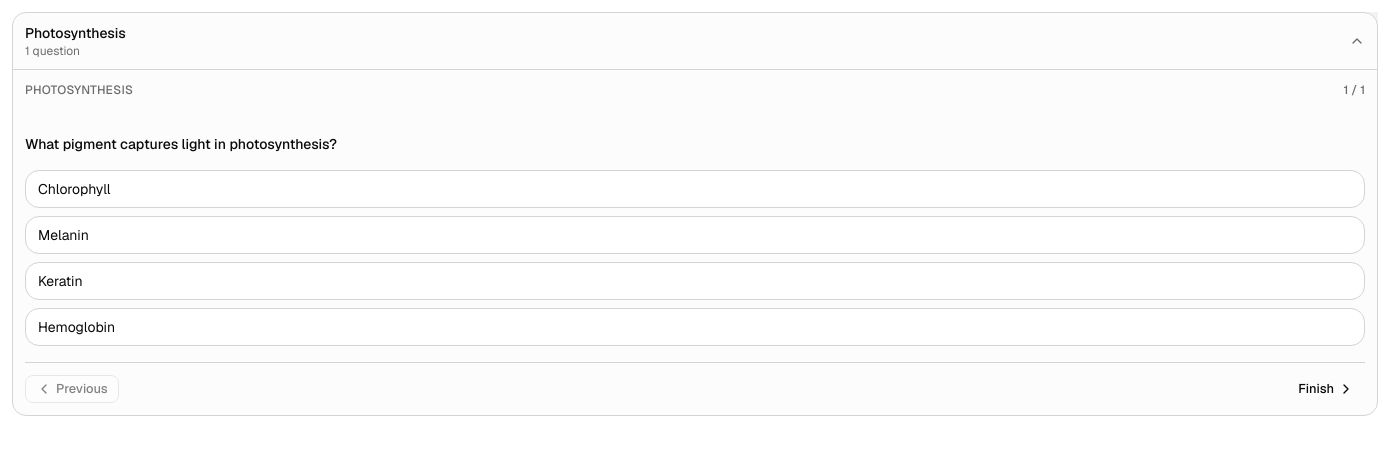
QuizPanel answer interaction › selecting the correct option locks the question in and shows Correct!
This screenshot has width=1390, height=465.
Click the button "Chlorophyll" at coordinates (74, 189), box [25,170,1365,208]
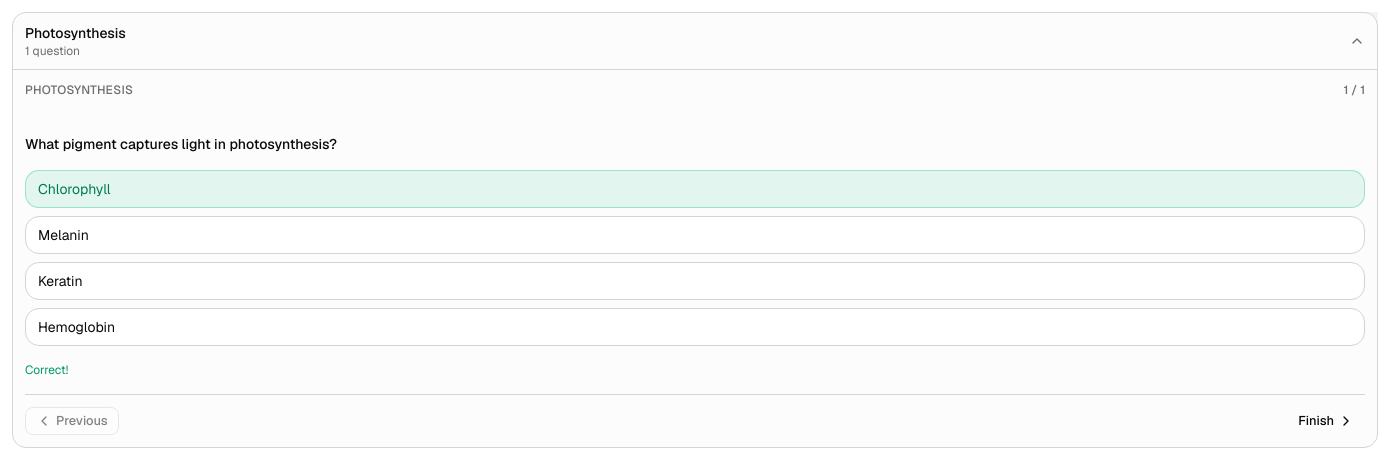
Expected: the button "Melanin" is disabled, [25,216,1365,254]
Expected: the text "Correct!" is shown, [25,362,68,378]
Expected: the button "Chlorophyll" is disabled, [25,170,1365,208]
